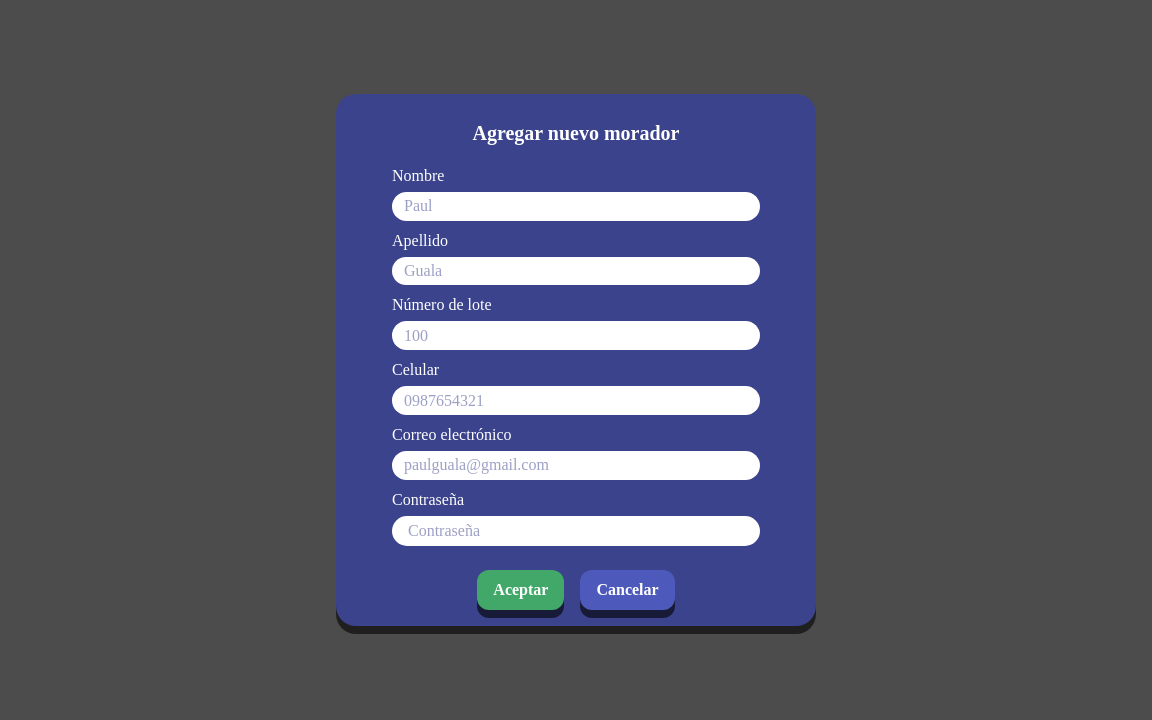
it: Display a warning when the user does not enter their password
The width and height of the screenshot is (1152, 720).
Click the button "Aceptar" at coordinates (521, 590), box [477,570,564,610]
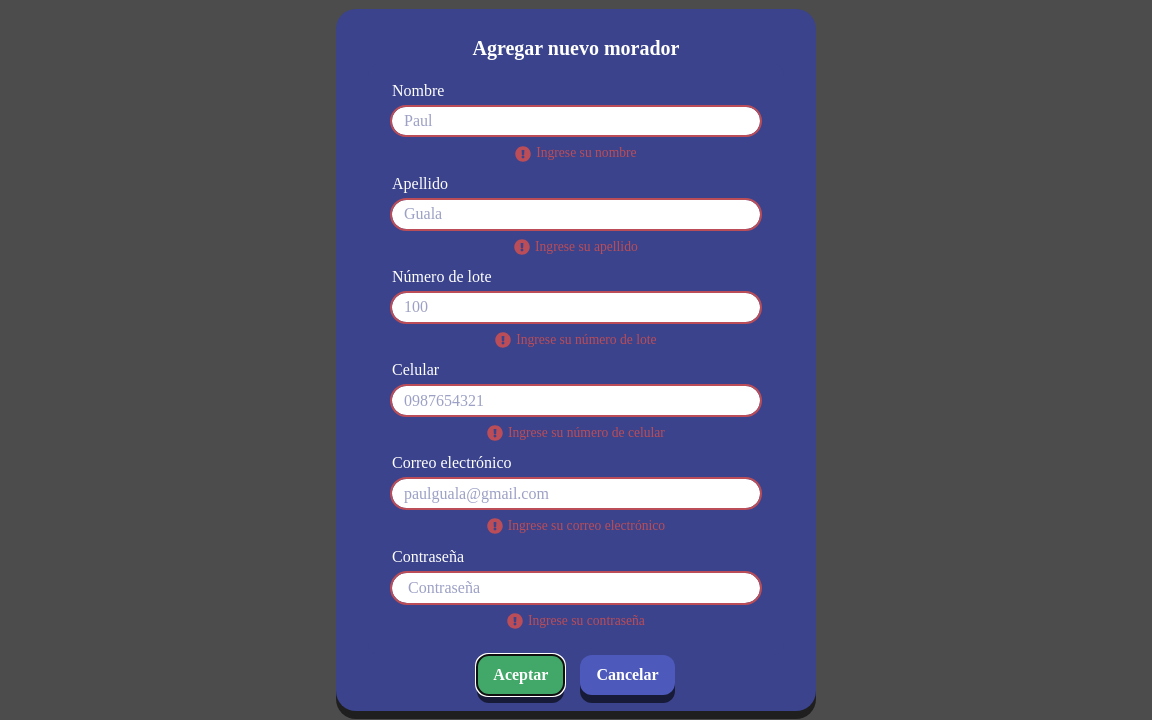
Check: the text "Ingrese su contraseña" is shown, box [528,611,645,631]
